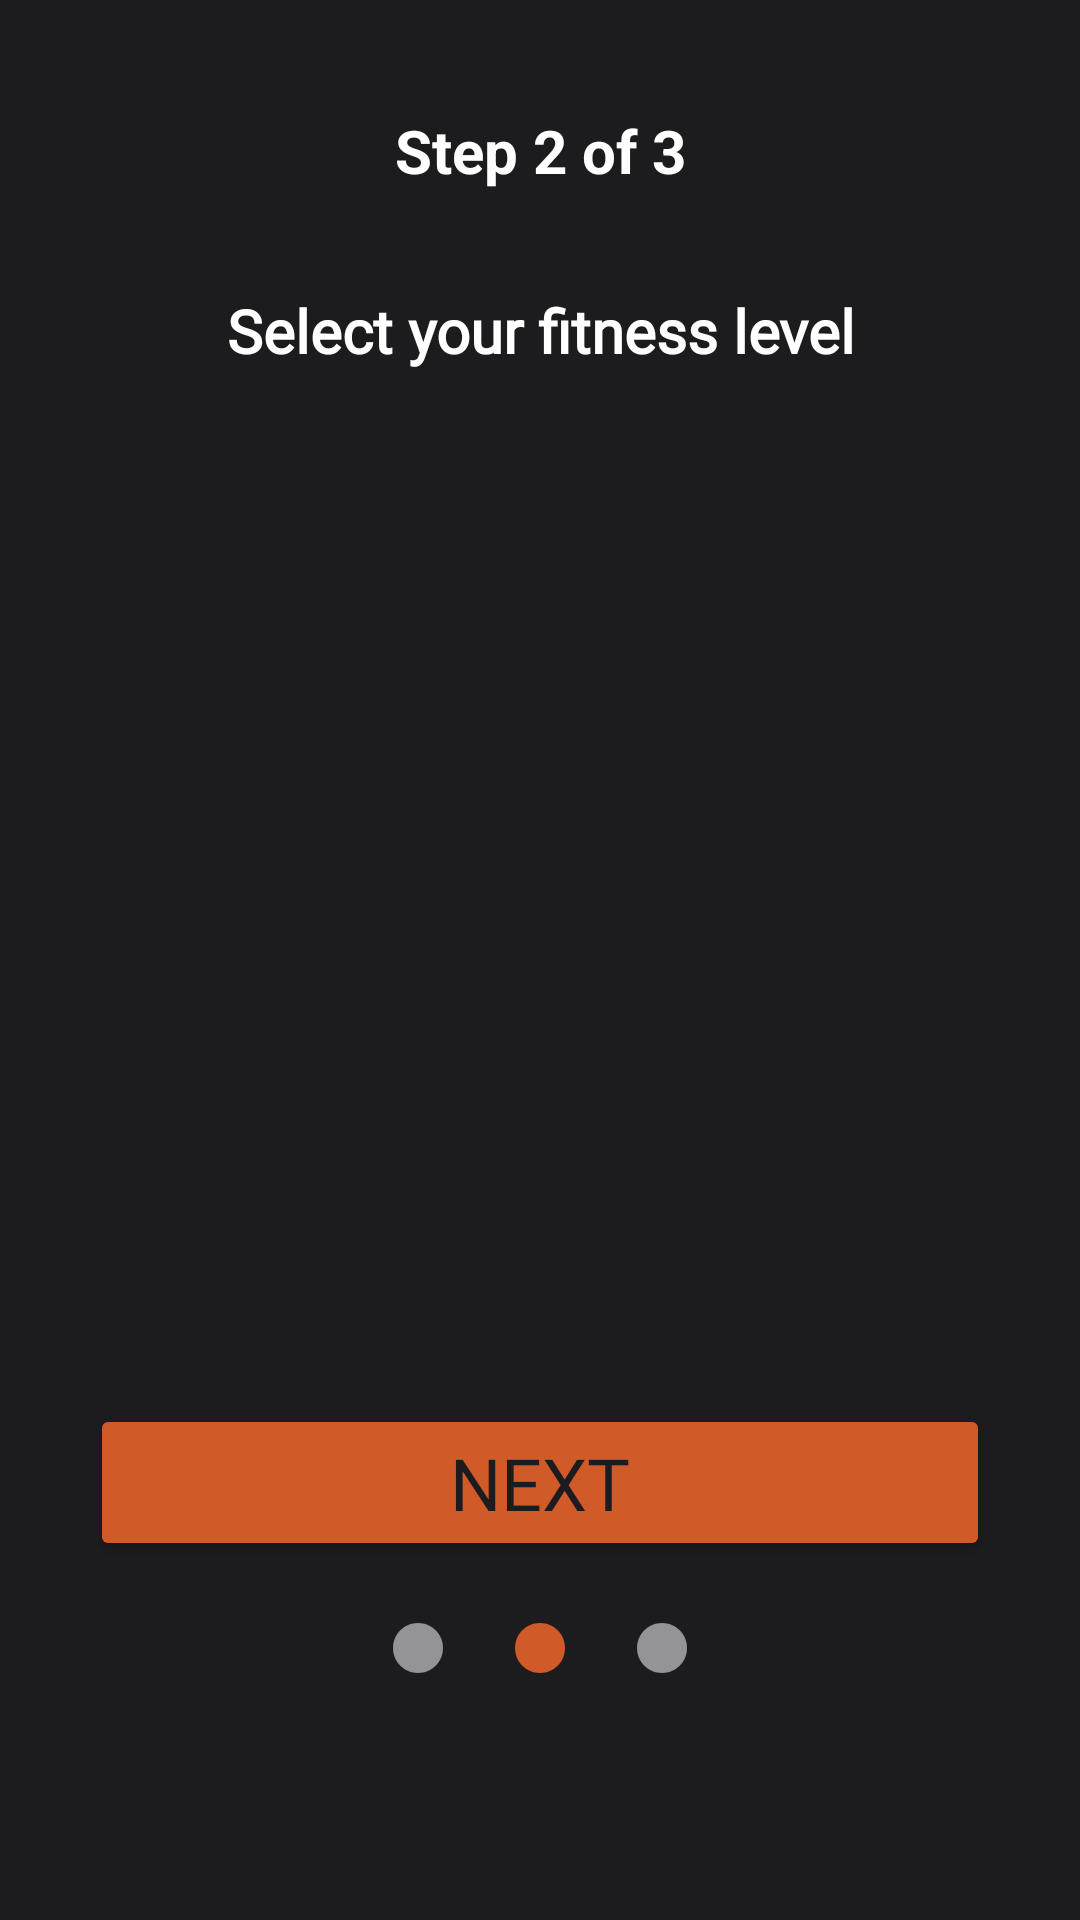

Icons on this 1080px×1920px Android screen, each with its box as [left=x1, top=y1, right=x2, bottom=y2]:
circle: [left=393, top=1623, right=443, bottom=1673], [left=515, top=1623, right=565, bottom=1673], [left=637, top=1623, right=687, bottom=1673]
